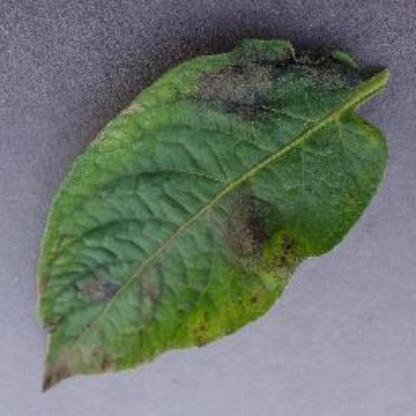Late-Blight: (29, 29, 409, 396)
